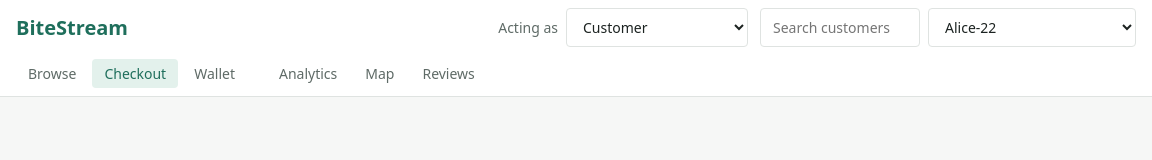
ignores stale responses and previous placeholder data during a newer search
Expected: the dropdown named "Choose a customer" is enabled, x1=928 y1=8 x2=1136 y2=47
Type "old" into the search field labelled "Search customers".
click(840, 28); type("old")  # box x1=760 y1=8 x2=920 y2=47
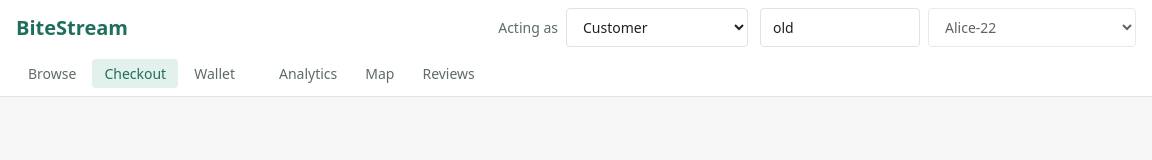
Now the dropdown named "Choose a customer" is disabled, box x1=928 y1=8 x2=1136 y2=47
Replace the text in the search field named "Search customers" with "new" at (840, 28), box x1=760 y1=8 x2=920 y2=47
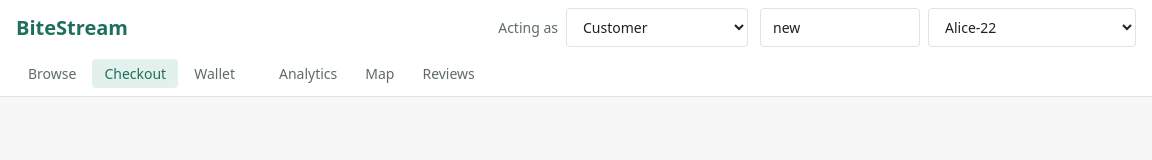
Now the dropdown named "Choose a customer" is enabled, box x1=928 y1=8 x2=1136 y2=47
